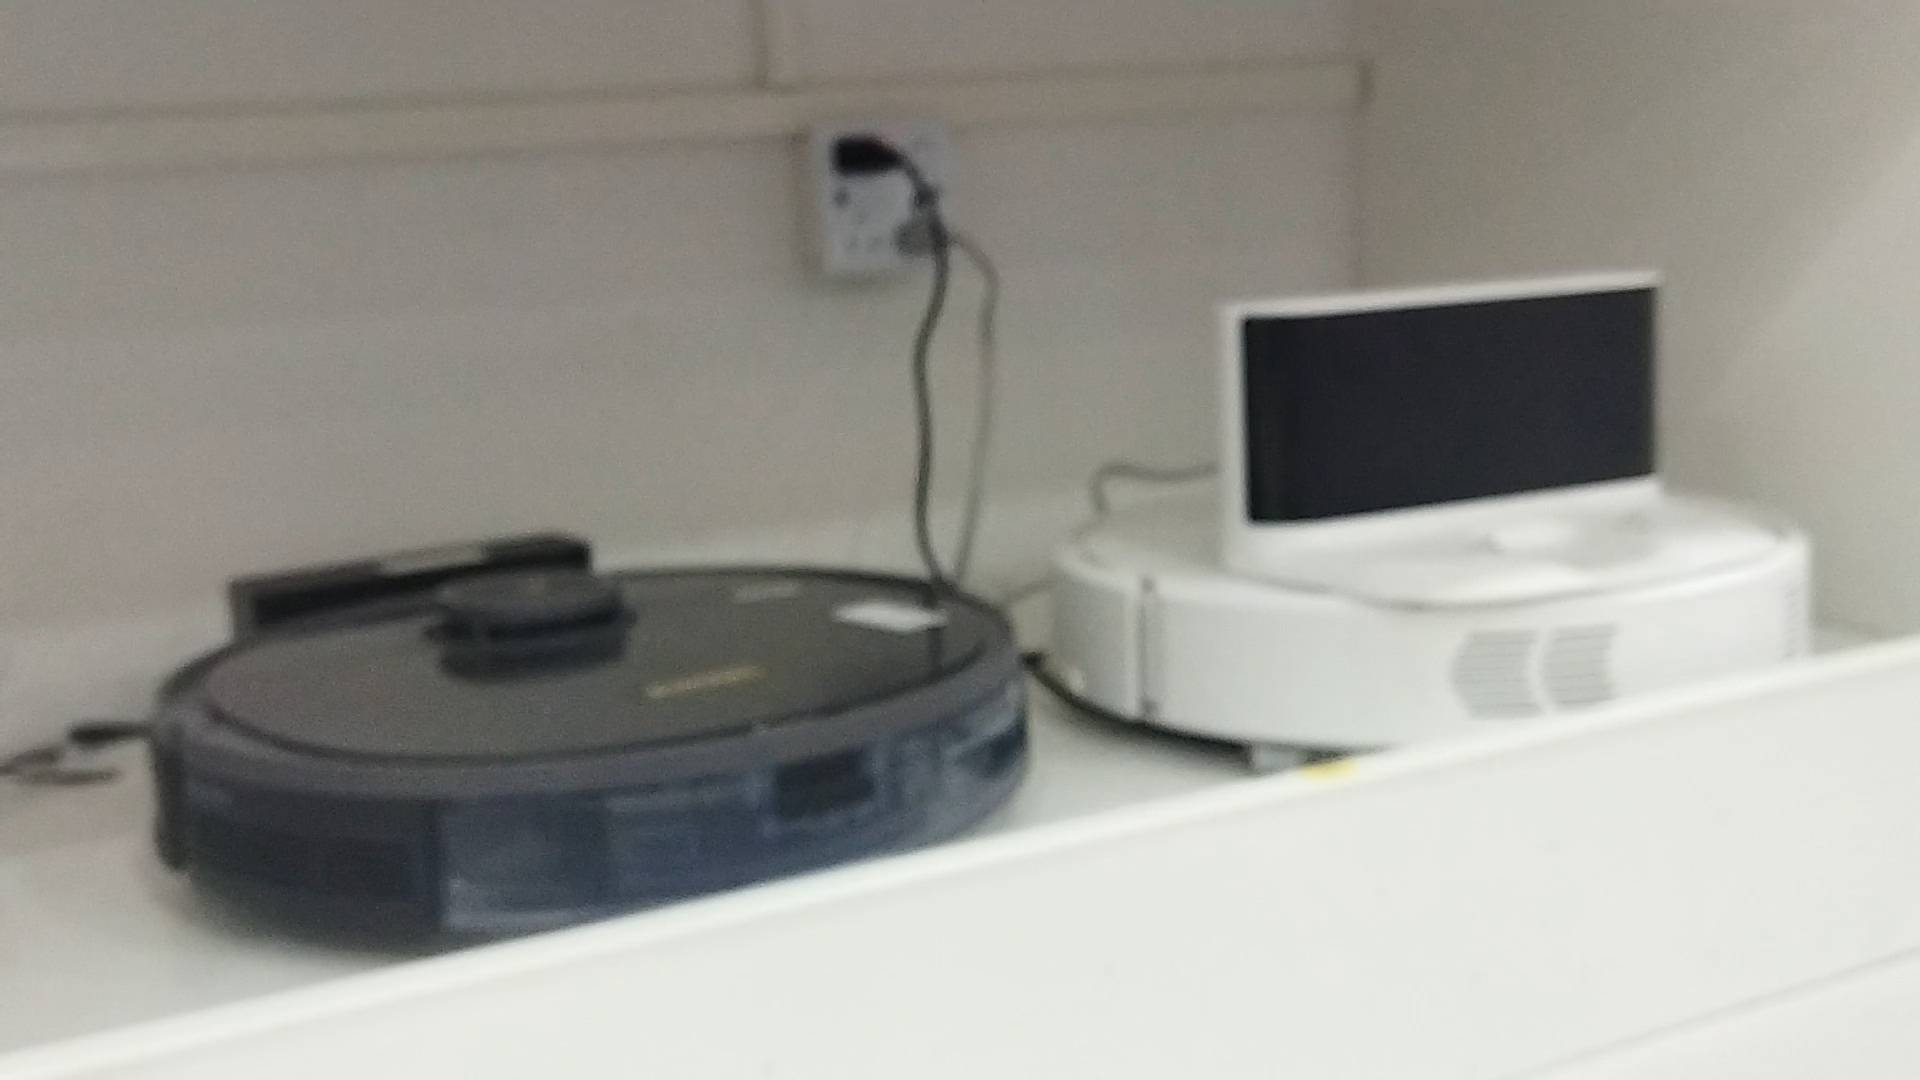recharge seat: (1218, 270, 1780, 613)
